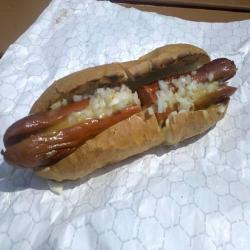hotdog: (7, 38, 222, 177)
